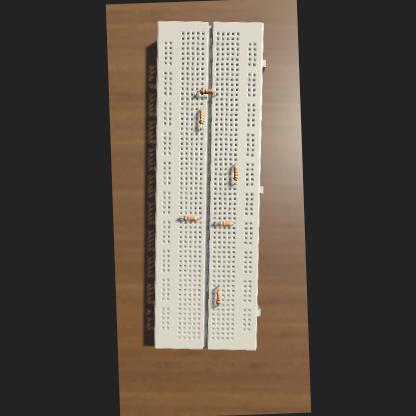breadboard: (142, 17, 276, 353)
resistor: (198, 108, 204, 124), (200, 88, 214, 94), (216, 289, 221, 304), (182, 215, 196, 220), (218, 220, 232, 225), (233, 165, 238, 179)
wire: (196, 90, 199, 94), (214, 90, 216, 94), (233, 180, 235, 184), (180, 216, 182, 218), (197, 217, 200, 218), (214, 221, 217, 222), (232, 221, 233, 223), (235, 163, 236, 165)
